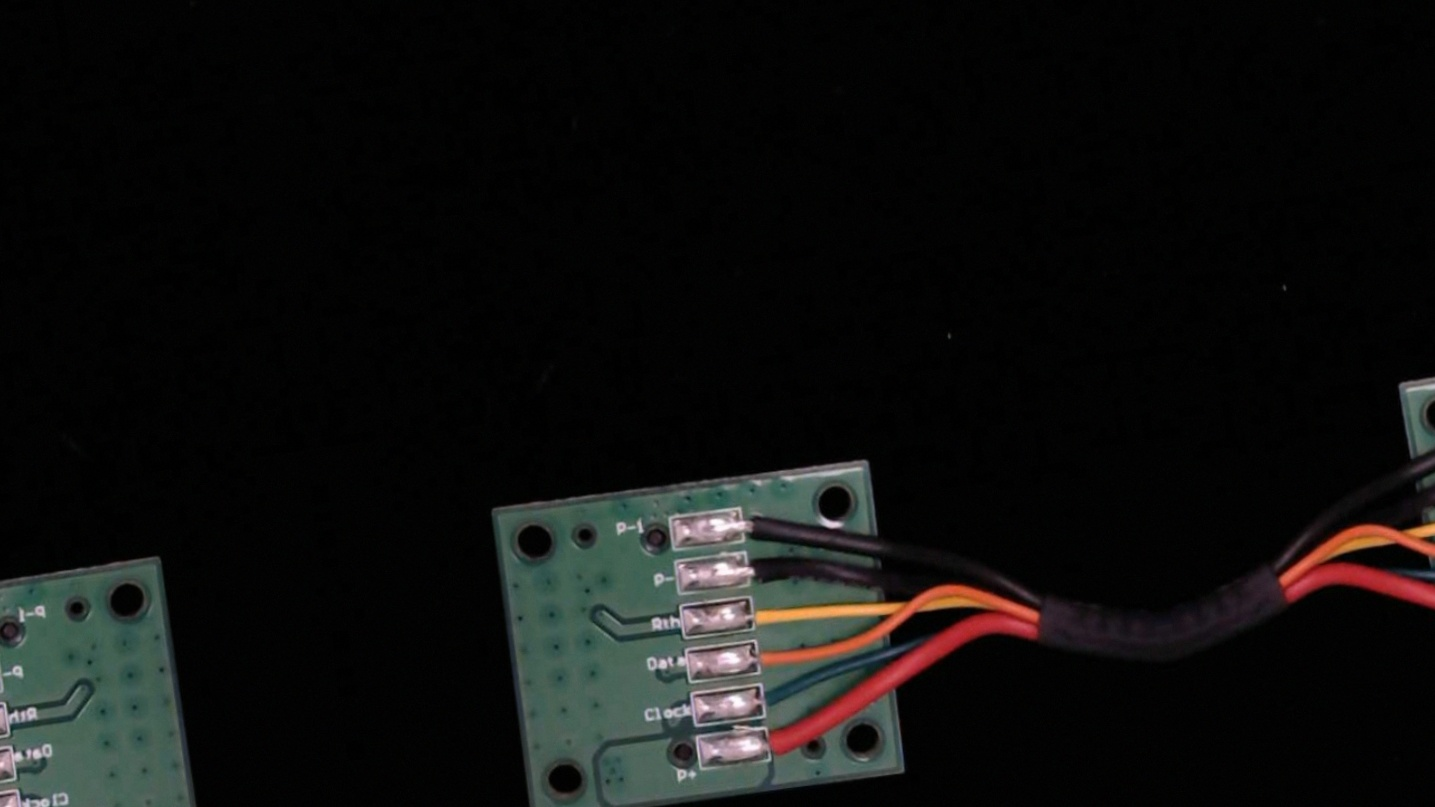Black: (724, 542, 812, 593)
Black1: (715, 497, 796, 545)
Green: (739, 674, 814, 721)
Orange: (732, 633, 808, 682)
Red: (748, 717, 823, 766)
Yellow: (728, 585, 817, 636)
